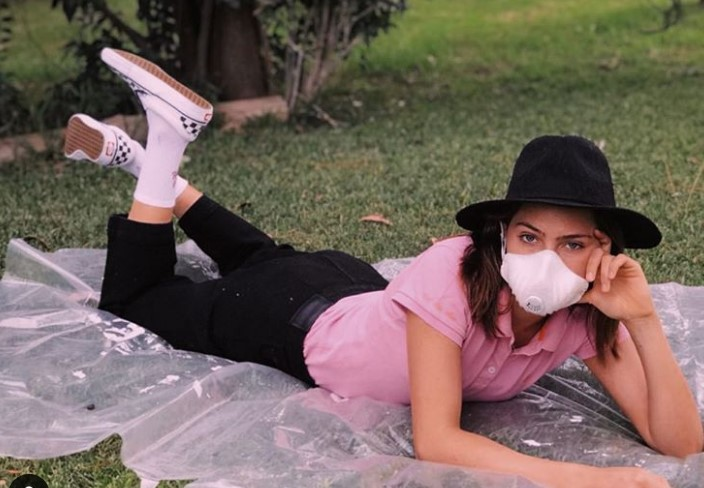face_with_mask: (458, 139, 661, 316)
